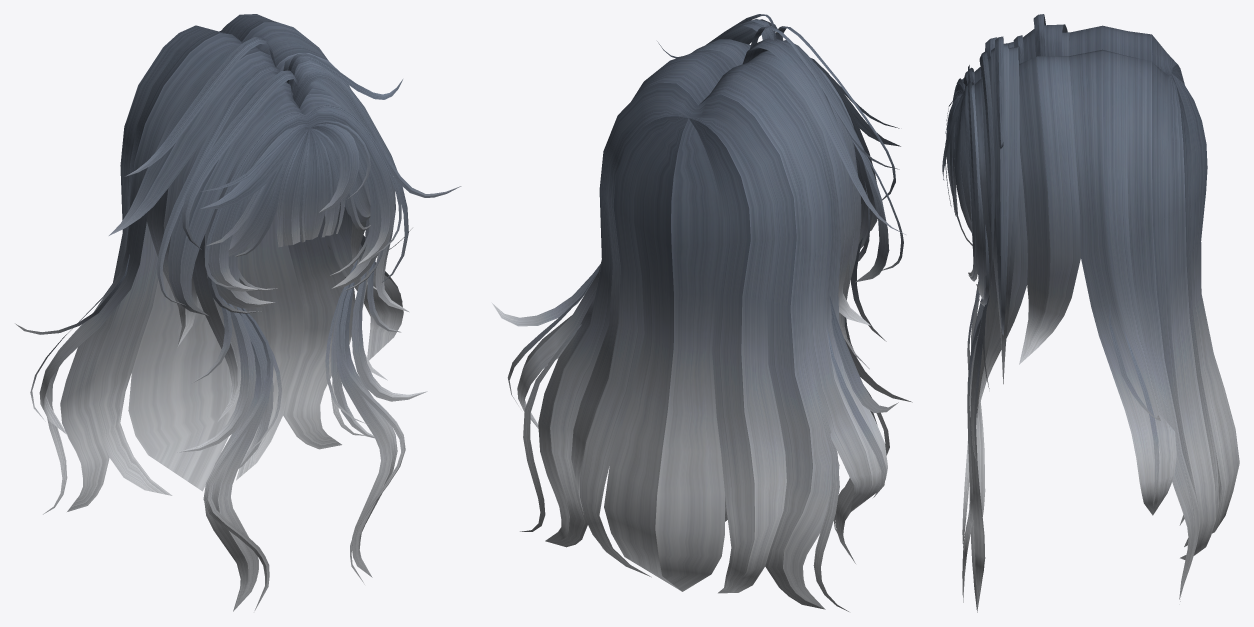
File: 26-cute-fluffy-emo-girl-hair-y2k-114354951912876.glb
3 renders of one model, left to right at view 1: azimuth 30°, elevation 25°; view 2: azimuth 150°, elevation 25°; view 3: azimuth 270°, elevation 25°, orthographic. The views are drawn at different scales.
Visible parts, largest first — view 1: 26-cute-fluffy-emo-girl-hair-y2k-114354951912876; view 2: 26-cute-fluffy-emo-girl-hair-y2k-114354951912876; view 3: 26-cute-fluffy-emo-girl-hair-y2k-114354951912876.
Part boxes in pixels (bbox=[...]): 26-cute-fluffy-emo-girl-hair-y2k-114354951912876: bbox=[15, 14, 461, 611]; 26-cute-fluffy-emo-girl-hair-y2k-114354951912876: bbox=[491, 14, 912, 611]; 26-cute-fluffy-emo-girl-hair-y2k-114354951912876: bbox=[942, 14, 1239, 612].
Bounding box in the file's own units: 2.59 × 3.32 × 1.62.
1 material, 1 textured.
